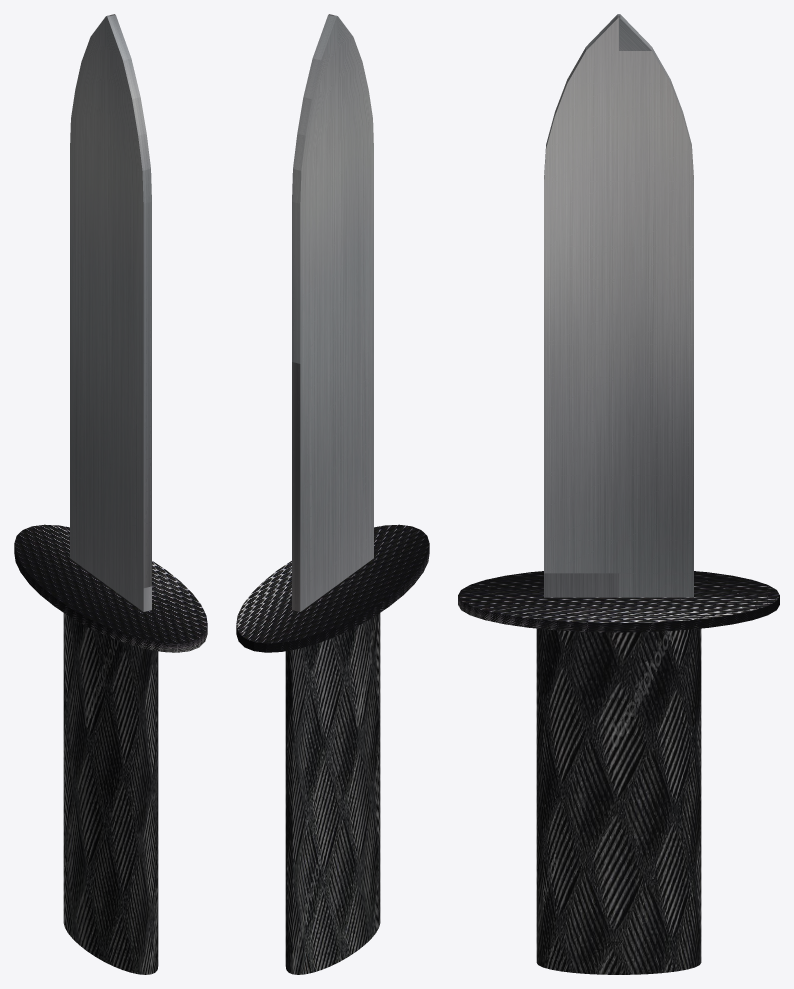
The model's file is Cuchillo.gltf.
3 renders of one model, left to right at view 1: azimuth 30°, elevation 25°; view 2: azimuth 150°, elevation 25°; view 3: azimuth 270°, elevation 25°, orthographic.
Parts seen in each view (by area): view 1: Cube, Cylinder.001, Cylinder; view 2: Cube, Cylinder.001, Cylinder; view 3: Cube, Cylinder.001, Cylinder.
Boxes of the visible parts, bbox=[...] form: Cube: bbox=[70, 14, 151, 611]; Cylinder.001: bbox=[63, 613, 158, 974]; Cylinder: bbox=[14, 524, 207, 652]; Cube: bbox=[292, 14, 373, 611]; Cylinder.001: bbox=[285, 613, 380, 974]; Cylinder: bbox=[236, 524, 429, 652]; Cube: bbox=[544, 14, 693, 597]; Cylinder.001: bbox=[536, 628, 701, 974]; Cylinder: bbox=[458, 571, 779, 632].
Bounding box in the file's own units: 1.07 × 8.54 × 2.63.
Materials: 3 (3 with a texture image).
